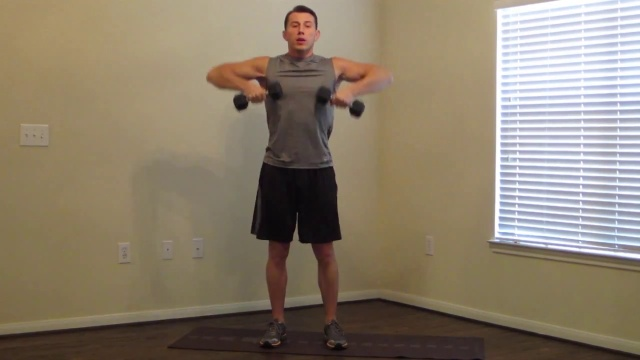person: (209, 6, 395, 359)
